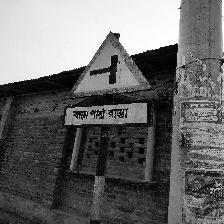Side-road-left: (64, 31, 152, 128)
